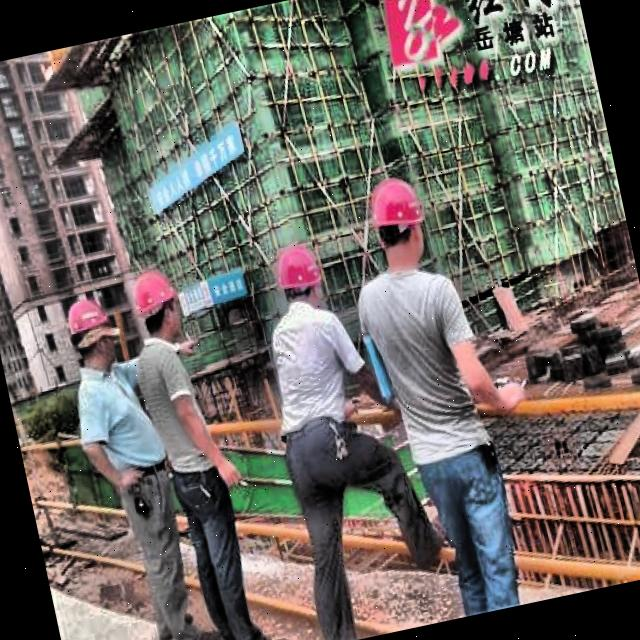helmet: (358, 165, 439, 278), (58, 290, 124, 377), (125, 263, 188, 344), (268, 237, 328, 317)
